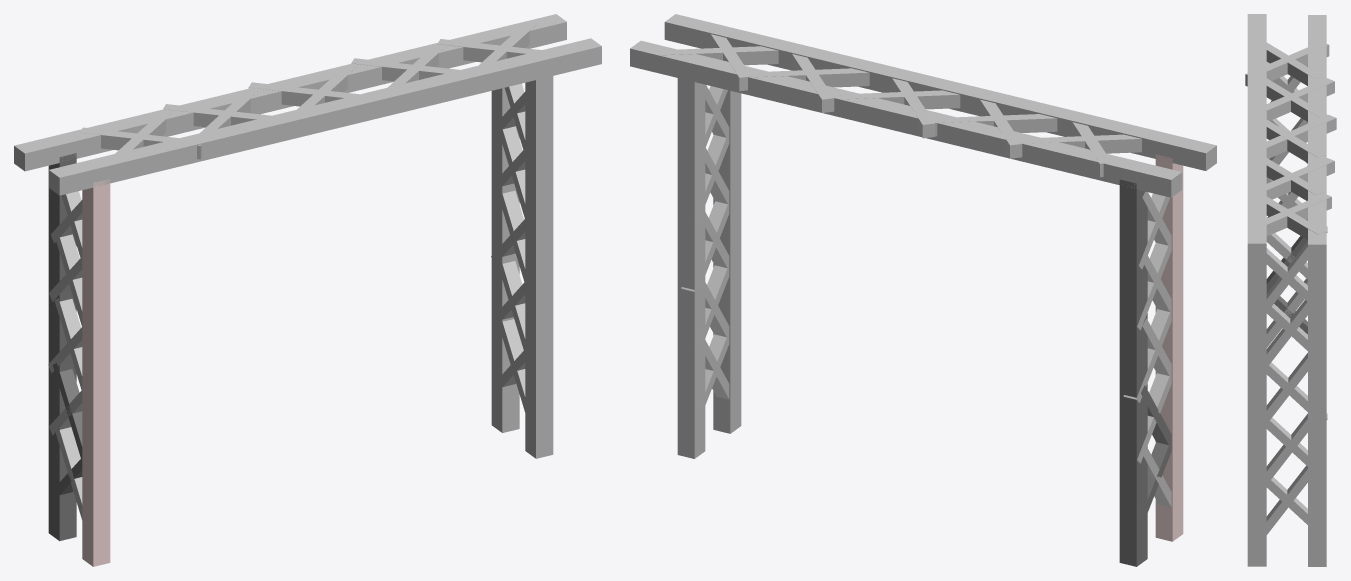
The model's file is truss.obj.
3 renders of one model, left to right at view 1: azimuth 30°, elevation 25°; view 2: azimuth 150°, elevation 25°; view 3: azimuth 270°, elevation 25°, orthographic. The views are drawn at different scales.
Parts seen in each view (by area): view 1: Cube.025_Cube.026, Cube.001_Cube.003, Cube.013_Cube.014, Cube.026_Cube.027, Cube.002, Cube.014_Cube.015, Cube.011_Cube.012, Cube.022_Cube.023, Cube.010_Cube.011, Cube.023_Cube.024, Cube.027_Cube.028, Cube.012_Cube.013 (+10 smaller); view 2: Cube.026_Cube.027, Cube.025_Cube.026, Cube.002, Cube.014_Cube.015, Cube.001_Cube.003, Cube.013_Cube.014, Cube.035_Cube.036, Cube.034_Cube.035, Cube.032_Cube.033, Cube.033_Cube.034, Cube.036_Cube.037, Cube.017_Cube.018 (+12 smaller); view 3: Cube.013_Cube.014, Cube.014_Cube.015, Cube.025_Cube.026, Cube.026_Cube.027, Cube.029_Cube.030, Cube.030_Cube.031, Cube.028_Cube.029, Cube.027_Cube.028, Cube.031_Cube.032, Cube.035_Cube.036, Cube.032_Cube.033, Cube.034_Cube.035 (+20 smaller).
Part boxes in pixels (<box>): Cube.025_Cube.026: <box>49,38,601,195</box>; Cube.001_Cube.003: <box>82,179,110,566</box>; Cube.013_Cube.014: <box>525,72,553,458</box>; Cube.026_Cube.027: <box>14,14,566,171</box>; Cube.002: <box>48,153,76,541</box>; Cube.014_Cube.015: <box>491,88,519,432</box>; Cube.011_Cube.012: <box>52,363,82,458</box>; Cube.022_Cube.023: <box>497,190,525,281</box>; Cube.010_Cube.011: <box>54,298,82,391</box>; Cube.023_Cube.024: <box>495,255,525,350</box>; Cube.027_Cube.028: <box>80,127,201,159</box>; Cube.012_Cube.013: <box>55,427,82,519</box>; Cube.026_Cube.027: <box>630,40,1182,197</box>; Cube.025_Cube.026: <box>664,14,1216,170</box>; Cube.002: <box>1119,179,1147,566</box>; Cube.014_Cube.015: <box>677,72,705,458</box>; Cube.001_Cube.003: <box>1155,154,1183,541</box>; Cube.013_Cube.014: <box>713,90,741,433</box>; Cube.035_Cube.036: <box>932,114,1057,136</box>; Cube.034_Cube.035: <box>840,90,960,109</box>; Cube.032_Cube.033: <box>659,46,778,65</box>; Cube.033_Cube.034: <box>753,68,869,87</box>; Cube.036_Cube.037: <box>1025,134,1141,153</box>; Cube.017_Cube.018: <box>681,201,729,294</box>; Cube.013_Cube.014: <box>1247,259,1266,566</box>; Cube.014_Cube.015: <box>1308,260,1326,566</box>; Cube.025_Cube.026: <box>1247,14,1266,258</box>; Cube.026_Cube.027: <box>1308,15,1326,260</box>; Cube.029_Cube.030: <box>1266,115,1336,158</box>; Cube.030_Cube.031: <box>1266,158,1334,199</box>; Cube.028_Cube.029: <box>1266,78,1334,120</box>; Cube.027_Cube.028: <box>1245,41,1329,86</box>; Cube.031_Cube.032: <box>1266,193,1331,236</box>; Cube.035_Cube.036: <box>1266,78,1327,121</box>; Cube.032_Cube.033: <box>1266,196,1325,239</box>; Cube.034_Cube.035: <box>1266,119,1325,162</box>.
Size of the model in its own units: 12.67 by 8.87 by 2.13.
